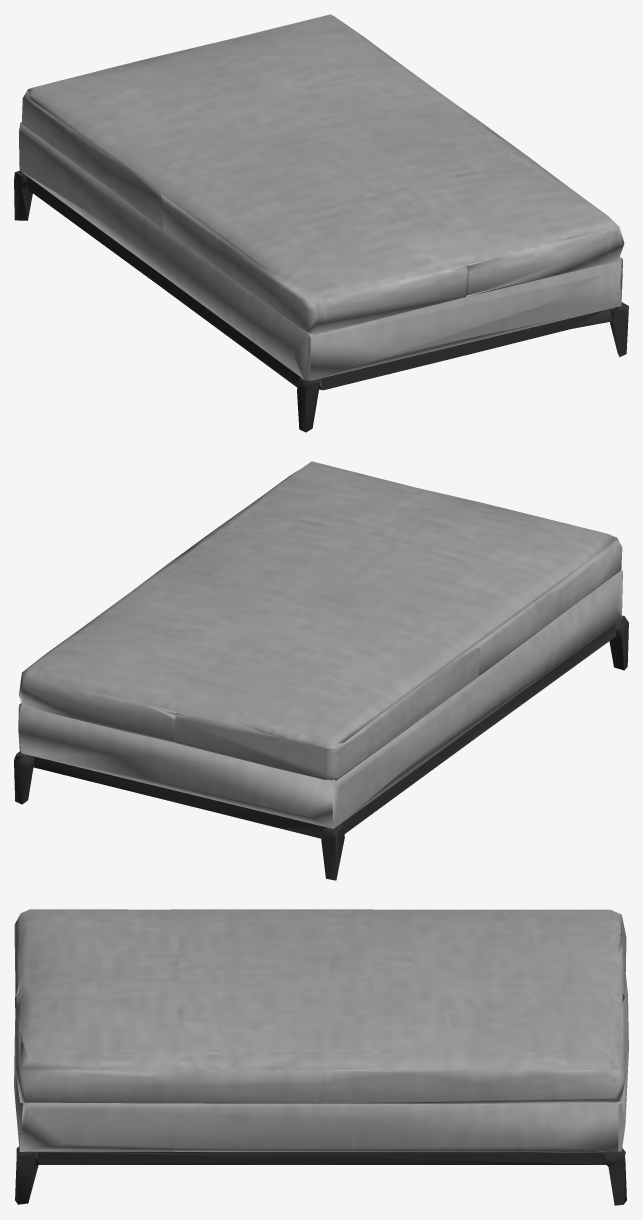
The model's file is M_Sofa0010.obj.
3 views of the same model, one above another, from view 1: azimuth 30°, elevation 25°; view 2: azimuth 150°, elevation 25°; view 3: azimuth 270°, elevation 25° (orthographic). The views are drawn at different scales.
Size of the model in its own units: 0.762 by 0.328 by 1.2.
Materials: 1 (1 with a texture image).
